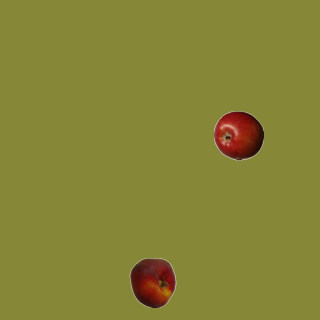Apple Braeburn: (213, 110, 263, 160)
Nectarine Flat: (127, 257, 177, 307)
